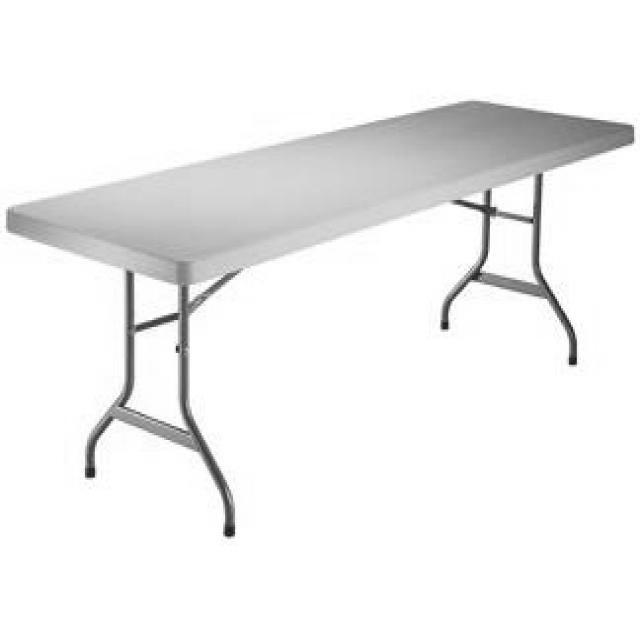table: (9, 93, 632, 538)
